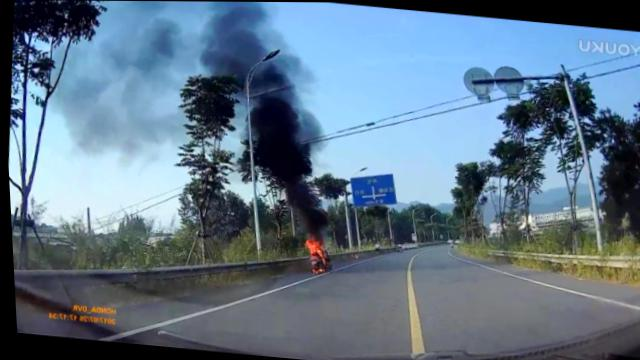fire: (305, 238, 322, 254)
